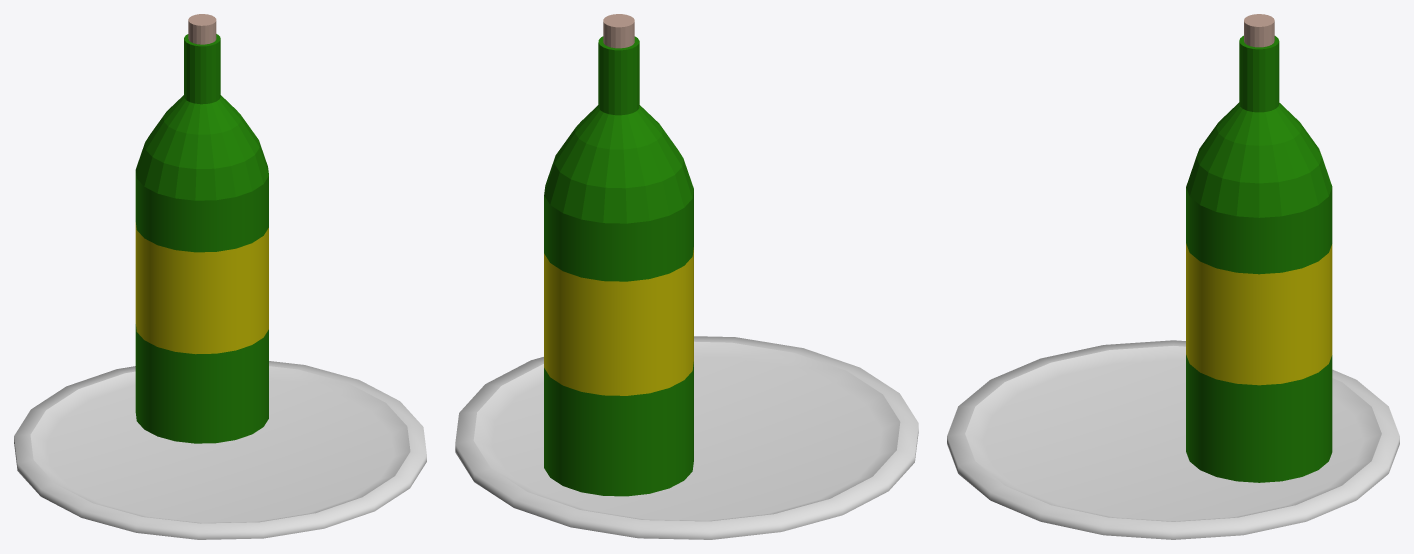
Rendered from wine_plate.fbx.
3 views of the same model, side by side, from view 1: azimuth 30°, elevation 25°; view 2: azimuth 150°, elevation 25°; view 3: azimuth 270°, elevation 25° (orthographic). The views are drawn at different scales.
Visible parts, largest first — view 1: pCylinder1, pCylinder2; view 2: pCylinder2, pCylinder1; view 3: pCylinder2, pCylinder1.
Part boxes in pixels (box(x1,y1,x2,y2)): pCylinder1: box(14, 361, 426, 539); pCylinder2: box(135, 14, 268, 443); pCylinder2: box(544, 14, 693, 496); pCylinder1: box(455, 336, 918, 539); pCylinder2: box(1186, 14, 1332, 482); pCylinder1: box(947, 340, 1399, 539).
Size of the model in its own units: 2 by 2.12 by 2.
